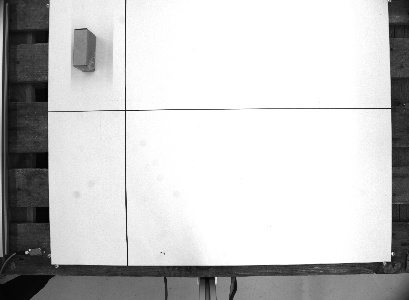b1: (70, 26, 98, 74)
